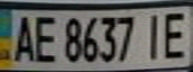3: (96, 12, 121, 63)
6: (78, 13, 100, 64)
7: (115, 11, 142, 62)
8: (60, 14, 84, 63)
A: (9, 11, 39, 63)
E: (157, 7, 193, 60), (30, 12, 60, 64)
I: (139, 9, 169, 61)
